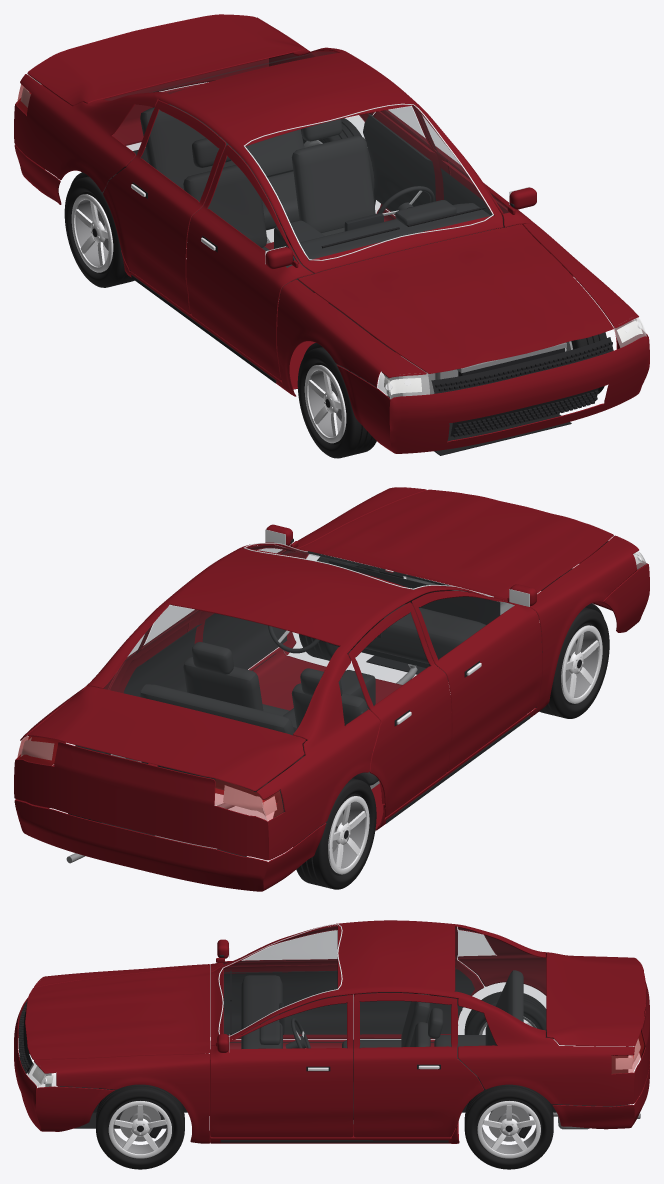
The model's file is sedan.glb.
The picture shows the model from 3 angles, top to bottom: view 1: azimuth 30°, elevation 25°; view 2: azimuth 150°, elevation 25°; view 3: azimuth 270°, elevation 25°; orthographic projection. The views are drawn at different scales.
Visible parts, largest first — view 1: body_shell, hood, glass_windshield, bumper_front, trunk_lid, door_FR, door_RR, seat_FL, fender_FR, seat_rear, grille, dash (+20 smaller); view 2: body_shell, hood, glass_rear, trunk_lid, door_FR, bumper_rear, door_RR, fender_FR, seat_FL, glass_door_RR, dash, glass_door_FR (+22 smaller); view 3: body_shell, hood, door_FL, door_RL, trunk_lid, glass_windshield, fender_FL, glass_rear, door_trim_FR, glass_door_RL, bumper_front, glass_door_FL (+24 smaller).
Part boxes in pixels (x1,y1,x2,y2): body_shell: (14,17,503,389); hood: (298,224,613,373); glass_windshield: (246,106,491,258); bumper_front: (336,320,649,453); trunk_lid: (27,14,305,105); door_FR: (186,145,313,380); door_RR: (103,100,226,314); seat_FL: (291,119,375,236); fender_FR: (277,279,426,396); seat_rear: (140,104,304,235); grille: (431,337,613,437); dash: (273,200,493,297); body_shell: (14,542,536,860); hood: (298,489,613,600); glass_rear: (104,606,337,734); trunk_lid: (27,686,305,791); door_FR: (412,591,542,771); bumper_rear: (14,765,326,891); door_RR: (348,602,451,817); fender_FR: (529,535,638,714); seat_FL: (183,642,289,715); glass_door_RR: (356,614,428,704); dash: (355,604,486,665); glass_door_FR: (419,597,513,658); body_shell: (210,920,649,1143); hood: (25,966,209,1059); door_FL: (210,995,353,1137); door_RL: (353,993,483,1137); trunk_lid: (546,952,646,1046); glass_windshield: (224,926,336,1035); fender_FL: (34,1053,209,1143); glass_rear: (455,927,545,1029); door_trim_FR: (223,970,346,1034); glass_door_RL: (360,1001,450,1047); bumper_front: (14,998,114,1131); glass_door_FL: (230,1003,346,1048).
Bounding box in the file's own units: 1.88 × 1.45 × 4.88.
